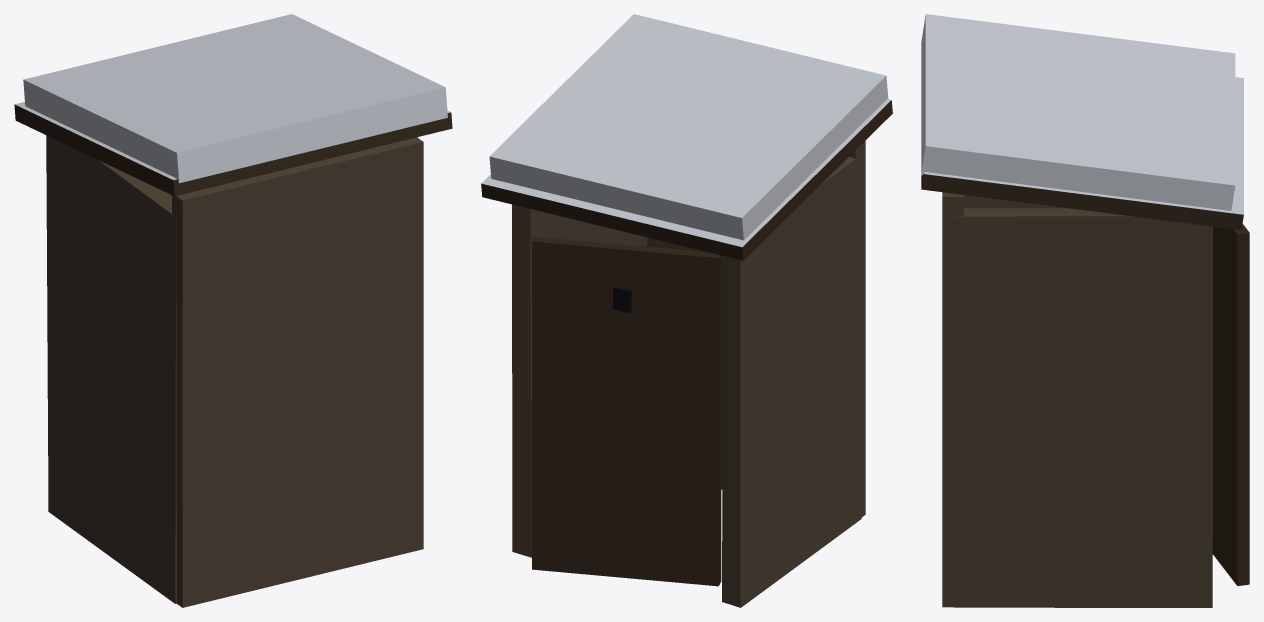
The model's file is outhouse.glb.
The picture shows the model from 3 angles, left to right: view 1: azimuth 30°, elevation 25°; view 2: azimuth 150°, elevation 25°; view 3: azimuth 270°, elevation 25°; orthographic projection. The views are drawn at different scales.
Parts seen in each view (by area): view 1: outhouse; view 2: outhouse; view 3: outhouse.
Part boxes in pixels (<box>): outhouse: <box>14,14,452,607</box>; outhouse: <box>481,14,892,607</box>; outhouse: <box>921,14,1249,607</box>.
Size of what is drawn, in the model's own units: 1.5 by 2.4 by 1.52.
